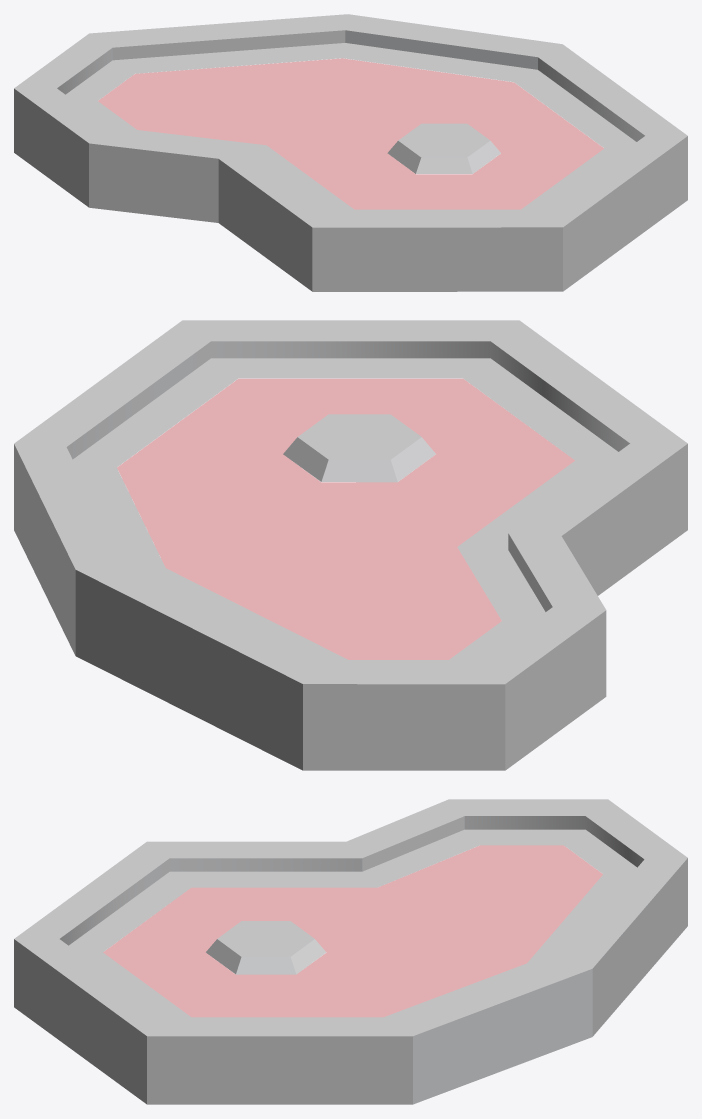
File: meat-raw.glb
3 views of the same model, one above another, from view 1: azimuth 30°, elevation 25°; view 2: azimuth 150°, elevation 25°; view 3: azimuth 270°, elevation 25° (orthographic). The views are drawn at different scales.
Visible parts, largest first — view 1: meatRaw; view 2: meatRaw; view 3: meatRaw.
Boxes of the visible parts, x1,y1,x2,y2 form: meatRaw: (14,14,687,291); meatRaw: (14,320,687,770); meatRaw: (14,799,687,1104).
Bounding box in the file's own units: 0.4784 × 0.0644 × 0.5754.
